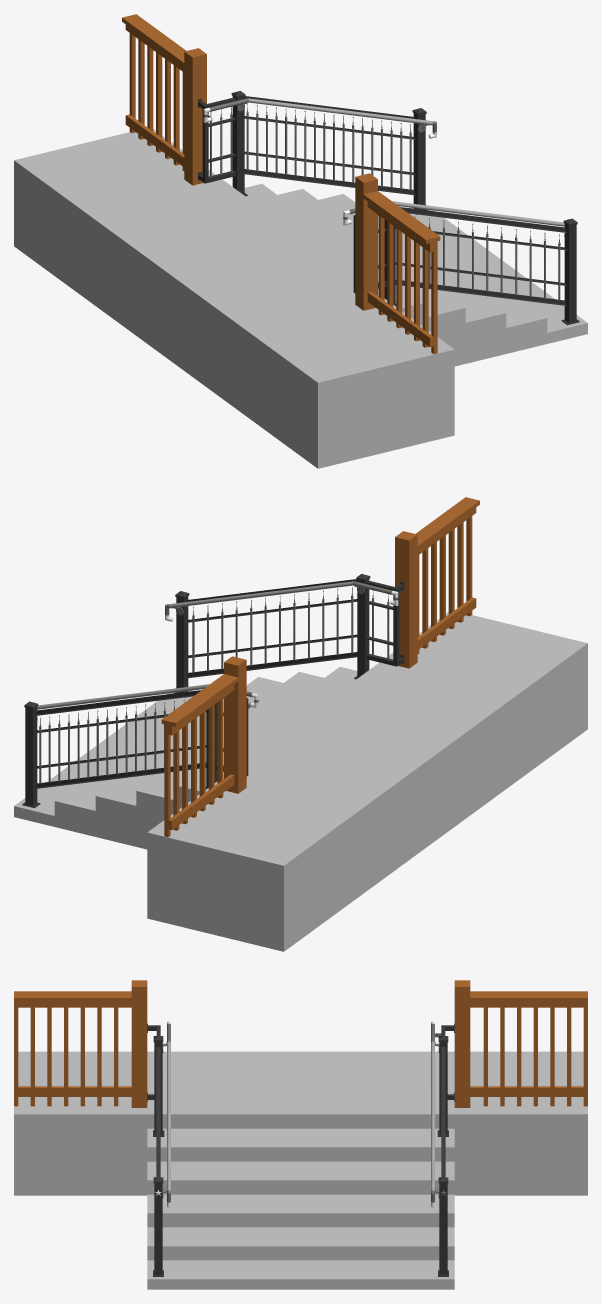
The picture shows the model from 3 angles, top to bottom: view 1: azimuth 30°, elevation 25°; view 2: azimuth 150°, elevation 25°; view 3: azimuth 270°, elevation 25°; orthographic projection. The views are drawn at different scales.
Parts seen in each view (by area): view 1: Group1, Group28, Group14, Group16, Group114, Group13, Group38, Group49, Group27, Group54, Group117, Group10 (+14 smaller); view 2: Group1, Group28, Group16, Group14, Group27, Group54, Group98, Group114, Group109, Group13, Group57, Group24 (+14 smaller); view 3: Group28, Group1, Group14, Group16, Group13, Group27, Group10, Group24, Group54, Group114, Group38, Group98 (+20 smaller).
Part boxes in pixels (bbox=[...]): Group1: bbox=[14, 129, 454, 468]; Group28: bbox=[208, 179, 587, 366]; Group14: bbox=[355, 173, 377, 310]; Group16: bbox=[184, 48, 206, 185]; Group114: bbox=[564, 224, 576, 323]; Group13: bbox=[363, 191, 440, 243]; Group38: bbox=[209, 98, 432, 125]; Group49: bbox=[232, 96, 244, 195]; Group27: bbox=[122, 14, 186, 66]; Group54: bbox=[413, 113, 425, 209]; Group117: bbox=[400, 207, 567, 232]; Group10: bbox=[367, 291, 433, 346]; Group1: bbox=[147, 612, 587, 951]; Group28: bbox=[14, 662, 393, 849]; Group16: bbox=[224, 656, 246, 793]; Group14: bbox=[395, 531, 417, 668]; Group27: bbox=[161, 674, 238, 726]; Group54: bbox=[25, 707, 37, 806]; Group98: bbox=[169, 581, 392, 608]; Group114: bbox=[176, 596, 188, 692]; Group109: bbox=[357, 579, 369, 678]; Group13: bbox=[415, 497, 479, 549]; Group57: bbox=[34, 690, 201, 715]; Group24: bbox=[168, 774, 234, 829]; Group28: bbox=[147, 1108, 454, 1289]; Group1: bbox=[14, 1051, 587, 1195]; Group14: bbox=[131, 980, 147, 1107]; Group16: bbox=[454, 980, 470, 1107]; Group13: bbox=[14, 991, 131, 1001]; Group27: bbox=[470, 991, 587, 1001]; Group10: bbox=[18, 1086, 131, 1096]; Group24: bbox=[470, 1086, 583, 1096]; Group54: bbox=[439, 1183, 447, 1274]; Group114: bbox=[154, 1183, 162, 1274]; Group38: bbox=[431, 1023, 434, 1190]; Group98: bbox=[167, 1023, 170, 1190].
Bounding box in the file's own units: 134 × 80.25 × 207.
Materials: 7 (1 with a texture image).
